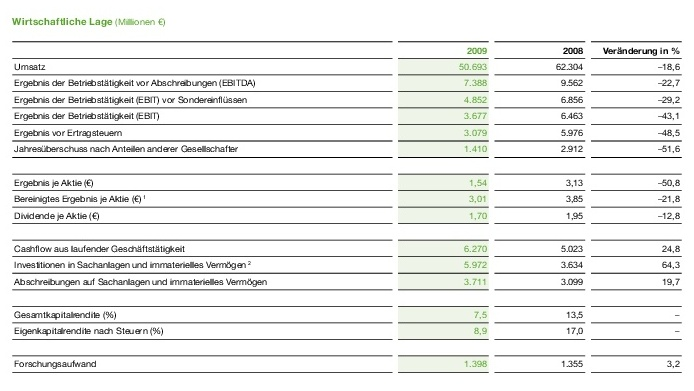table: (0, 0, 694, 391)
